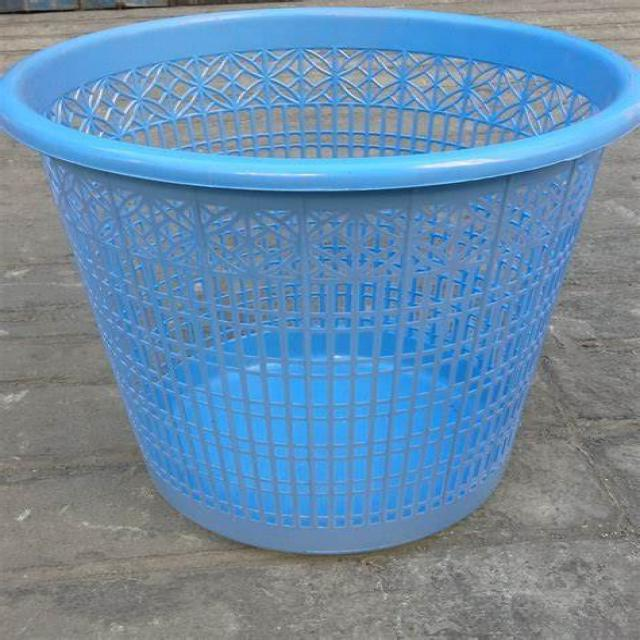garbage container: (6, 4, 640, 592)
